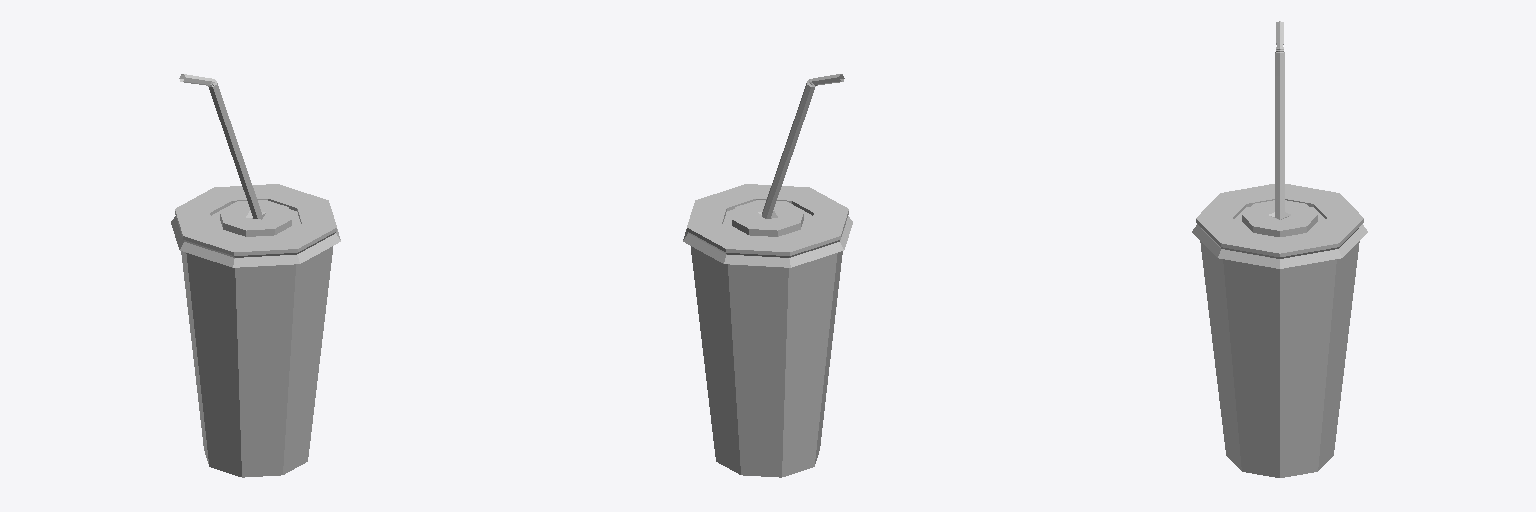
Rendered from cup.obj.
3 renders of one model, left to right at view 1: azimuth 30°, elevation 25°; view 2: azimuth 150°, elevation 25°; view 3: azimuth 270°, elevation 25°, orthographic.
Visible parts, largest first — view 1: Cup, Cap, Tube; view 2: Cup, Cap, Tube; view 3: Cup, Cap, Tube.
Part boxes in pixels (bbox=[...]): Cup: bbox=[181, 246, 332, 477]; Cap: bbox=[171, 184, 340, 267]; Tube: bbox=[179, 74, 261, 218]; Cup: bbox=[691, 246, 842, 477]; Cap: bbox=[683, 184, 852, 267]; Tube: bbox=[762, 74, 844, 218]; Cup: bbox=[1200, 241, 1359, 477]; Cap: bbox=[1192, 184, 1367, 268]; Tube: bbox=[1275, 21, 1284, 219].
Bounding box in the file's own units: 809 × 2018 × 809.